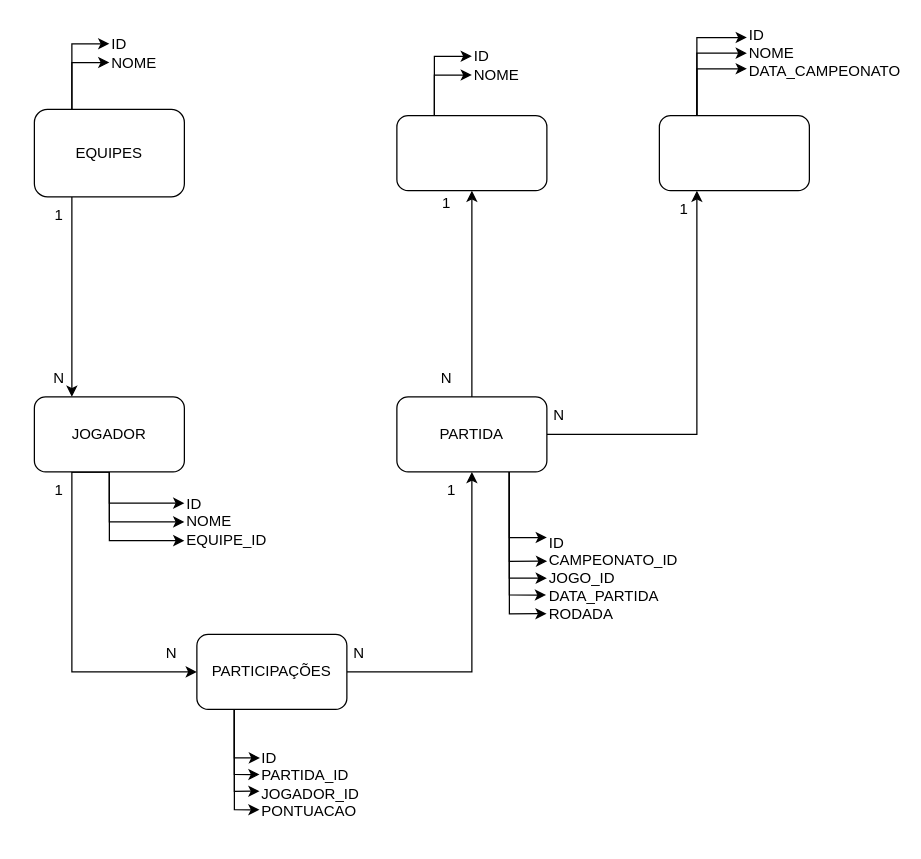
This 921x859 diagram has some shape labels left out. Each missing label, with the box of its shape:
CAMPEONATO: (658, 114, 809, 191)
JOGO: (396, 114, 547, 191)
